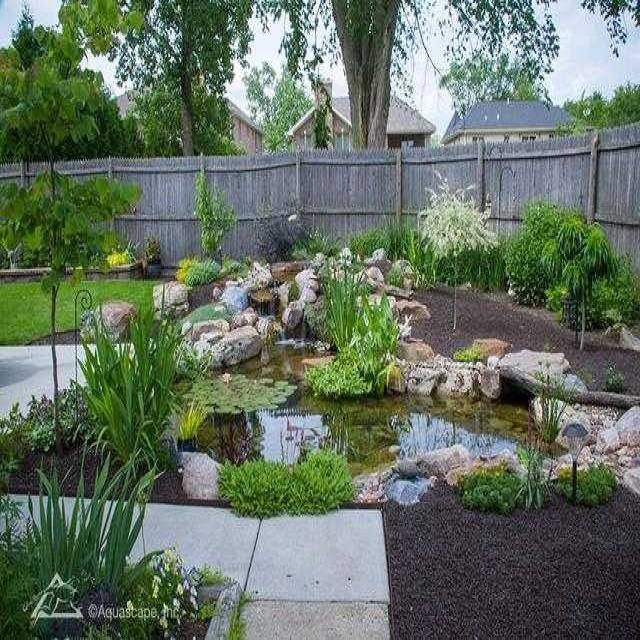Ponds: (156, 255, 640, 509)
